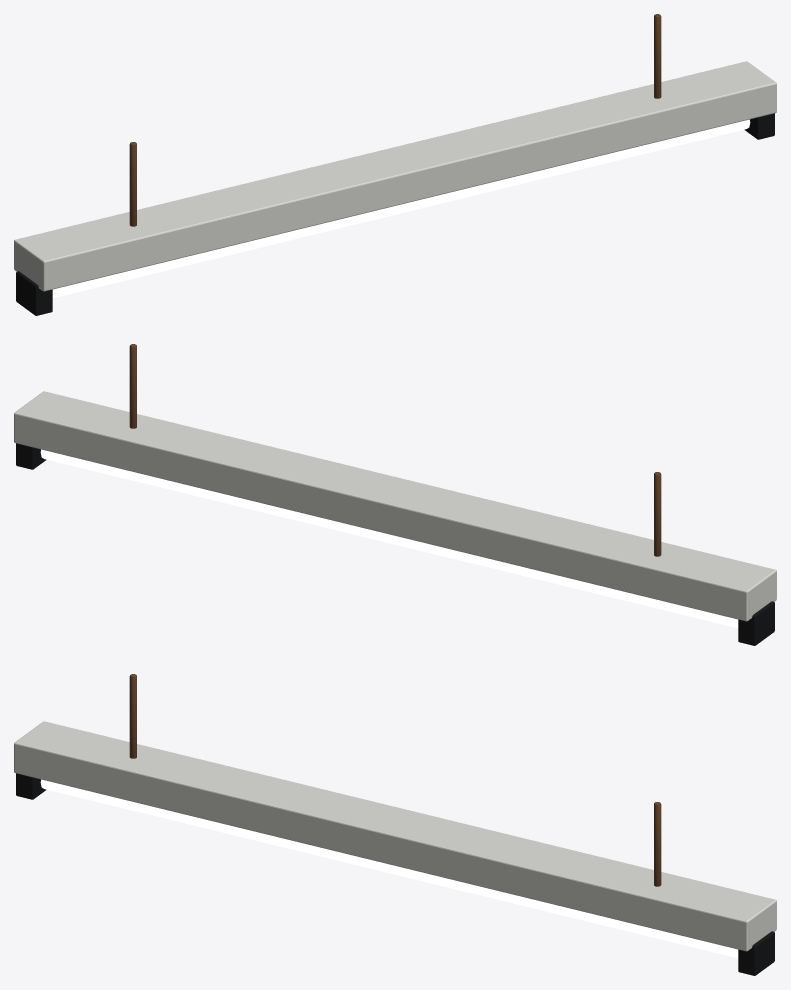
Rendered from PROP_Light_Fluorescent_Batten.glb.
3 renders of one model, top to bottom at view 1: azimuth 30°, elevation 25°; view 2: azimuth 150°, elevation 25°; view 3: azimuth 330°, elevation 25°, orthographic.
Visible parts, largest first — view 1: PROP_Light_Fluorescent_Batten_Mesh, PROP_Light_Fluorescent_Batten_Tube; view 2: PROP_Light_Fluorescent_Batten_Mesh, PROP_Light_Fluorescent_Batten_Tube; view 3: PROP_Light_Fluorescent_Batten_Mesh, PROP_Light_Fluorescent_Batten_Tube.
Boxes of the visible parts, x1,y1,x2,y2 form: PROP_Light_Fluorescent_Batten_Mesh: (14,14,776,315); PROP_Light_Fluorescent_Batten_Tube: (52,119,750,298); PROP_Light_Fluorescent_Batten_Mesh: (14,344,776,645); PROP_Light_Fluorescent_Batten_Tube: (40,449,738,628); PROP_Light_Fluorescent_Batten_Mesh: (14,674,776,975); PROP_Light_Fluorescent_Batten_Tube: (40,779,738,958).
Bounding box in the file's own units: 1.27 × 0.23 × 0.09.
